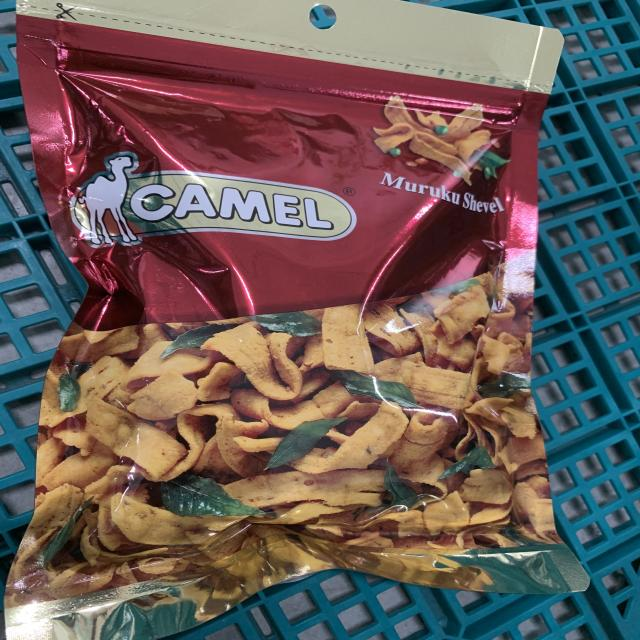object_name: (19, 2, 552, 619)
